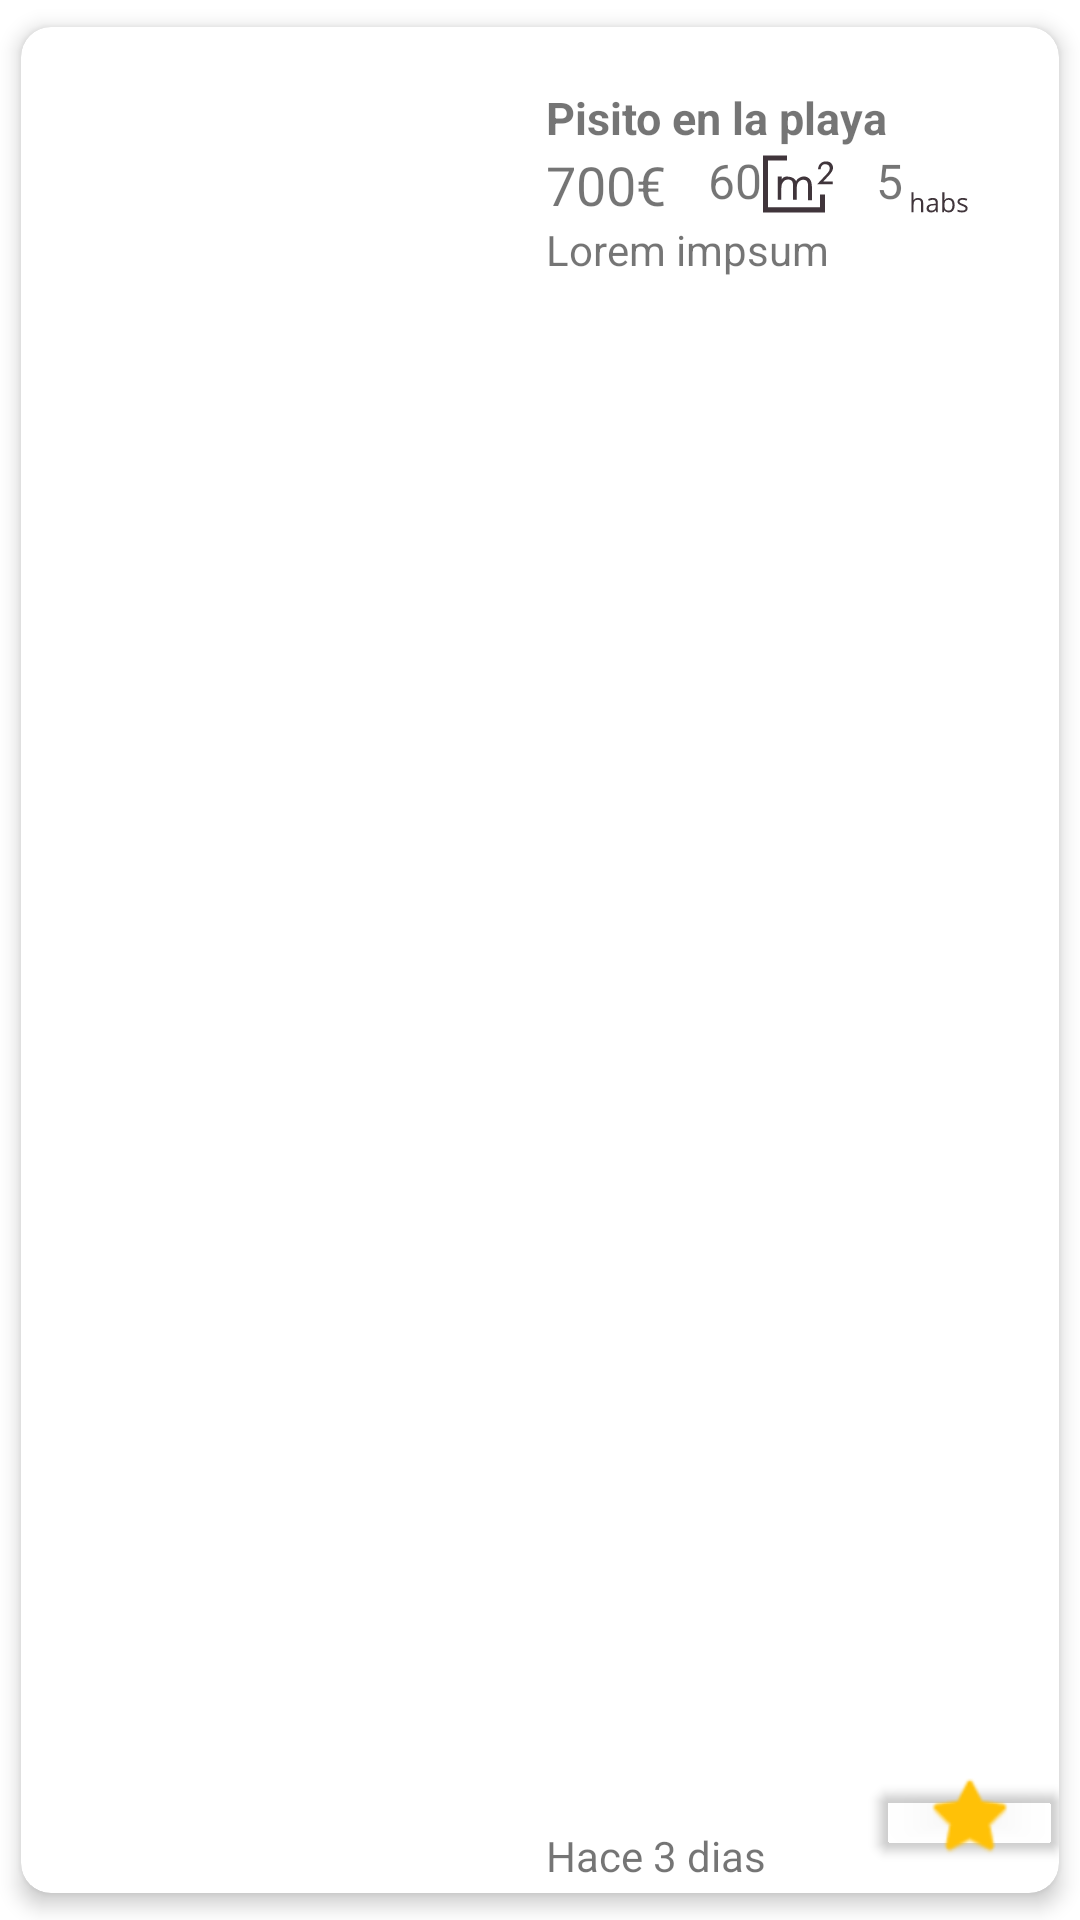

Icons on this 1080w x 1920h Android screen, each with its box as (left=x1, top=y1, right=x2, bottom=y2):
star on: (left=880, top=1779, right=1059, bottom=1853)
